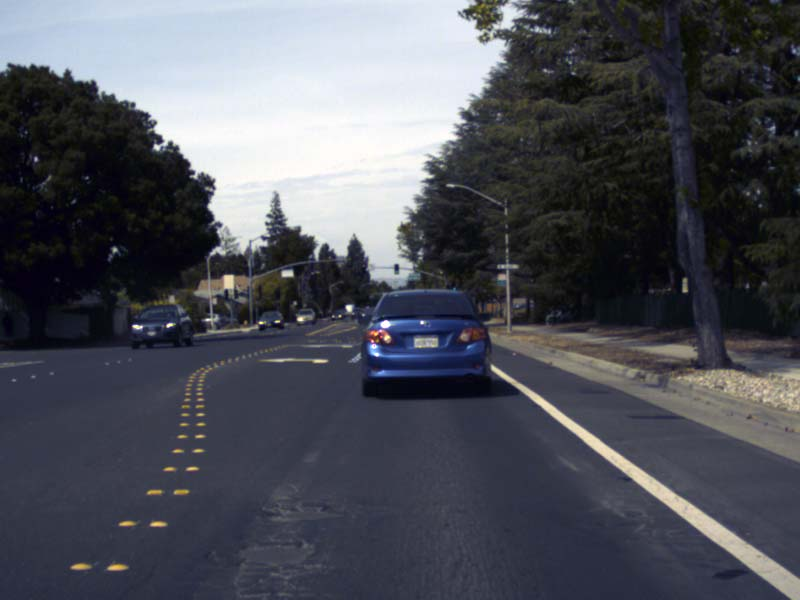Green: (394, 263, 398, 274)
